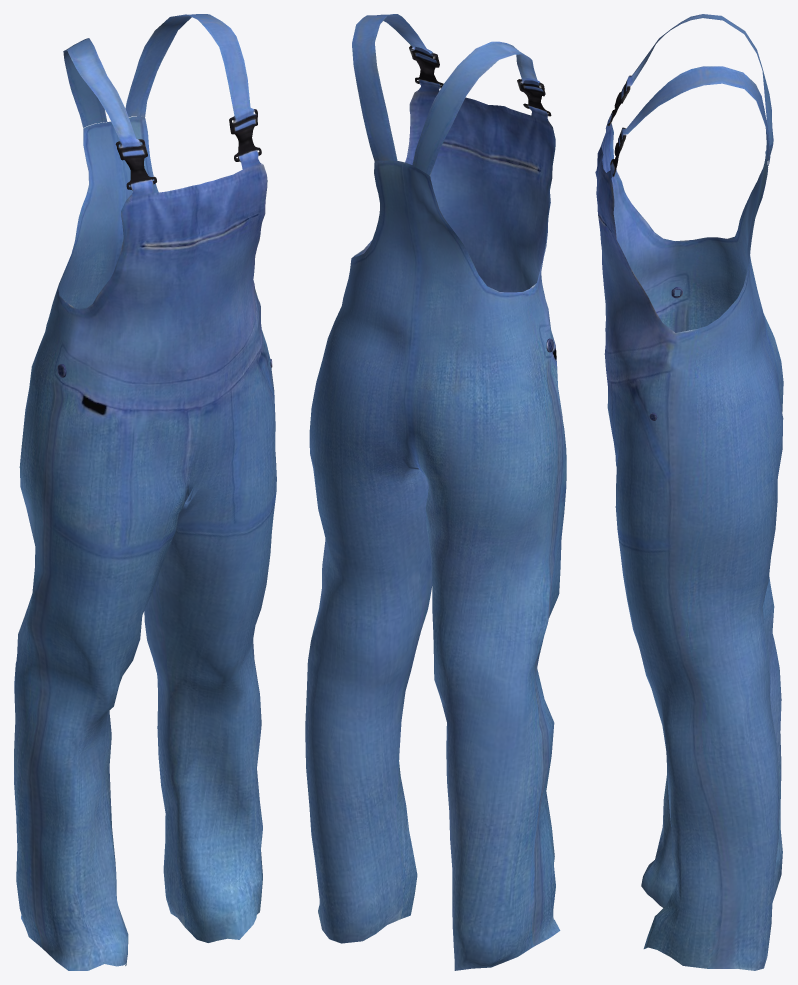
The model's file is bottom_overalls.gltf.
3 views of the same model, side by side, from view 1: azimuth 30°, elevation 25°; view 2: azimuth 150°, elevation 25°; view 3: azimuth 270°, elevation 25° (orthographic). The views are drawn at different scales.
Parts seen in each view (by area): view 1: bottom_overalls; view 2: bottom_overalls; view 3: bottom_overalls.
Part boxes in pixels (x1=…): bottom_overalls: x1=14, y1=14, x2=276, y2=970; bottom_overalls: x1=305, y1=14, x2=566, y2=970; bottom_overalls: x1=595, y1=14, x2=783, y2=970.
Bounding box in the file's own units: 0.374 × 1.4 × 0.2689.
Materials: 1 (1 with a texture image).
